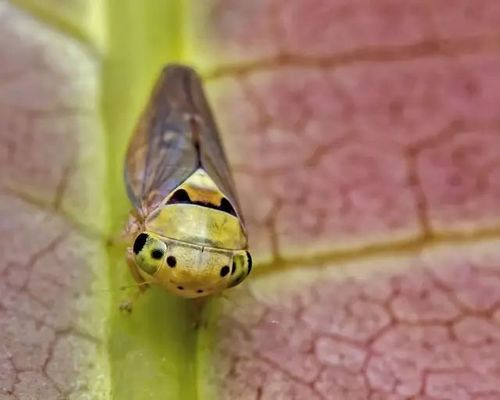Cicadellidae: (116, 64, 251, 299)
